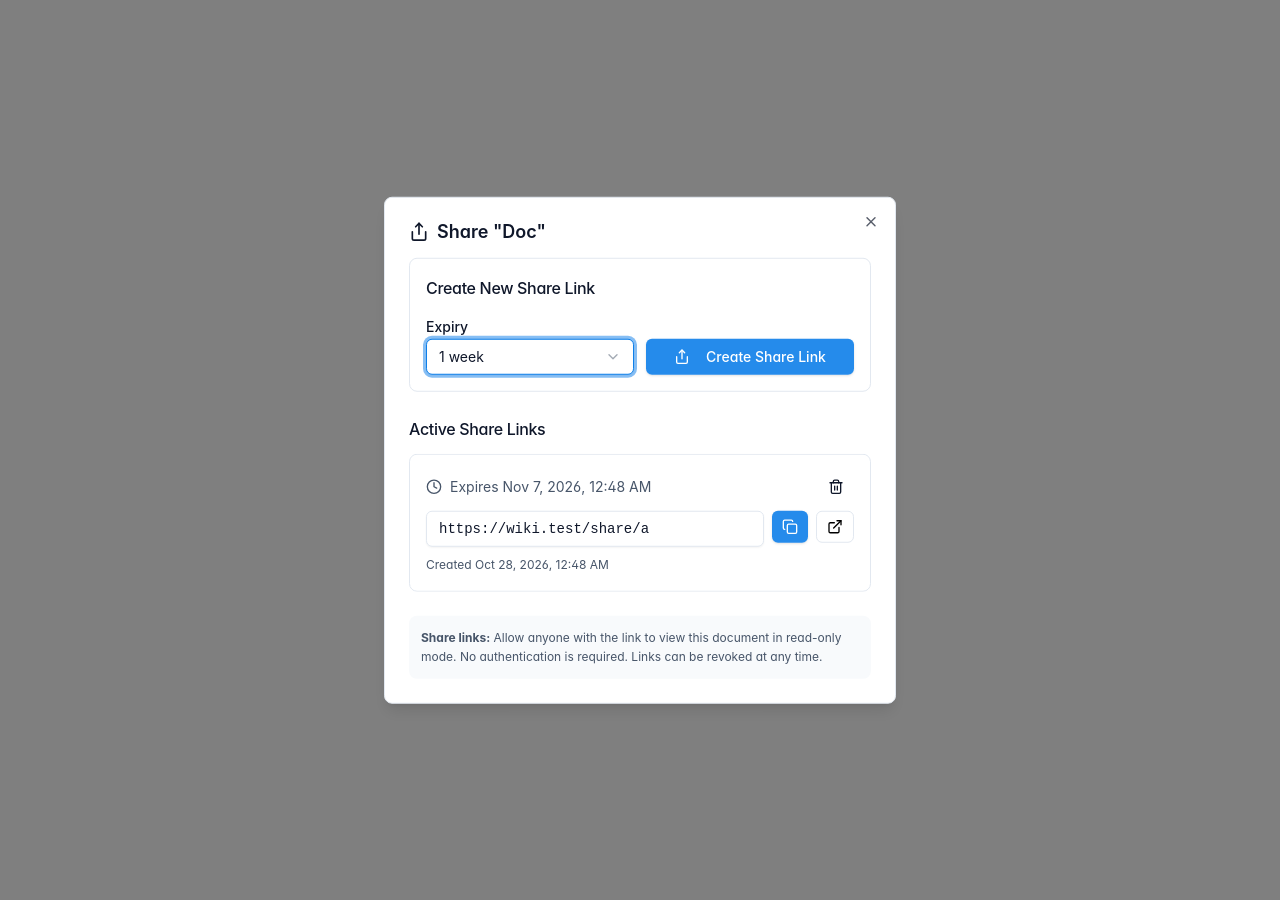
Test: ShareDocumentModal › shows an error when revoking fails
Click the button with test id "revoke-share-btn": (836, 487) [818,471,854,503]
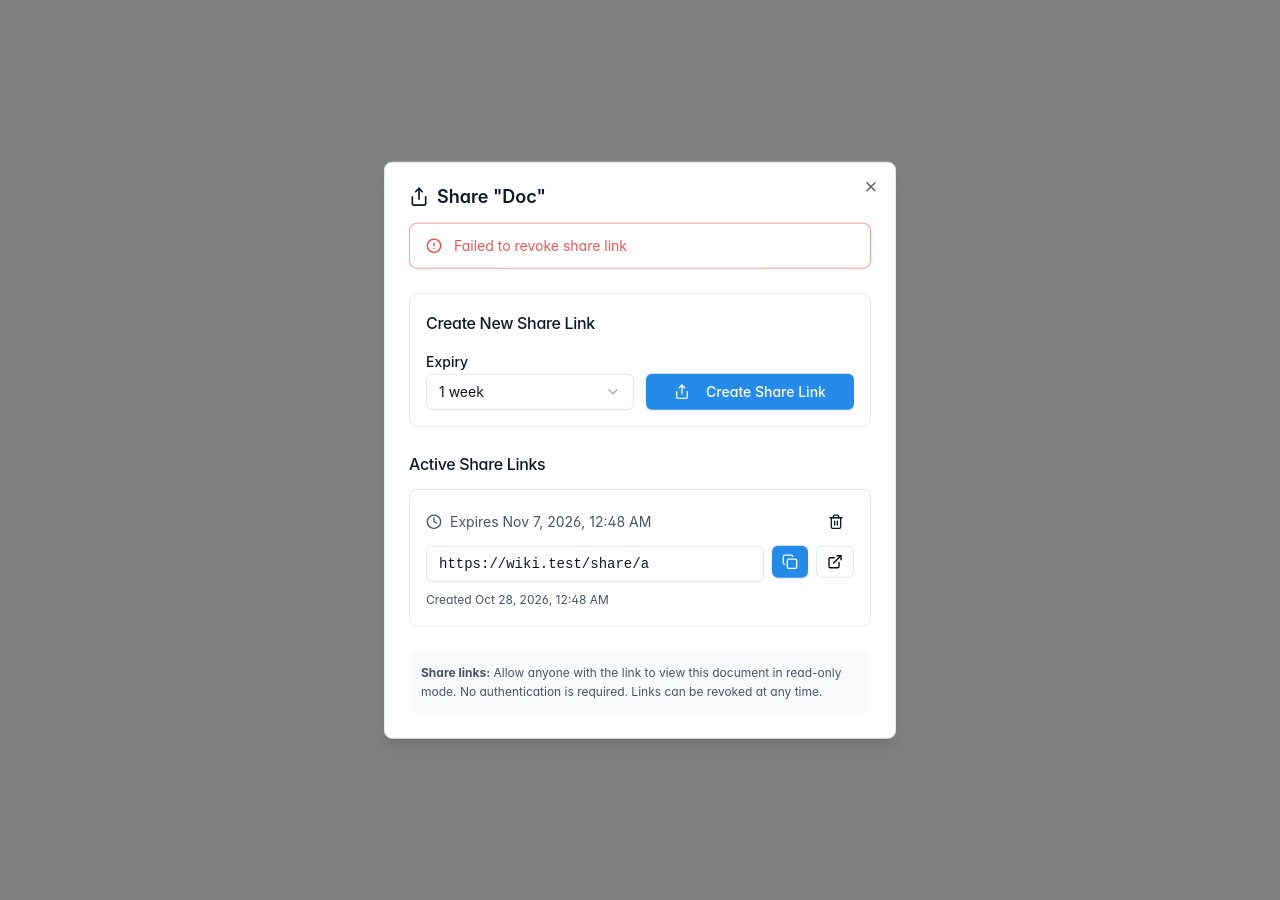
Check: the field with test id "share-url" is shown, box [426,546,764,582]
Check: the text "Failed to revoke share link" is shown, box [454,236,627,256]
